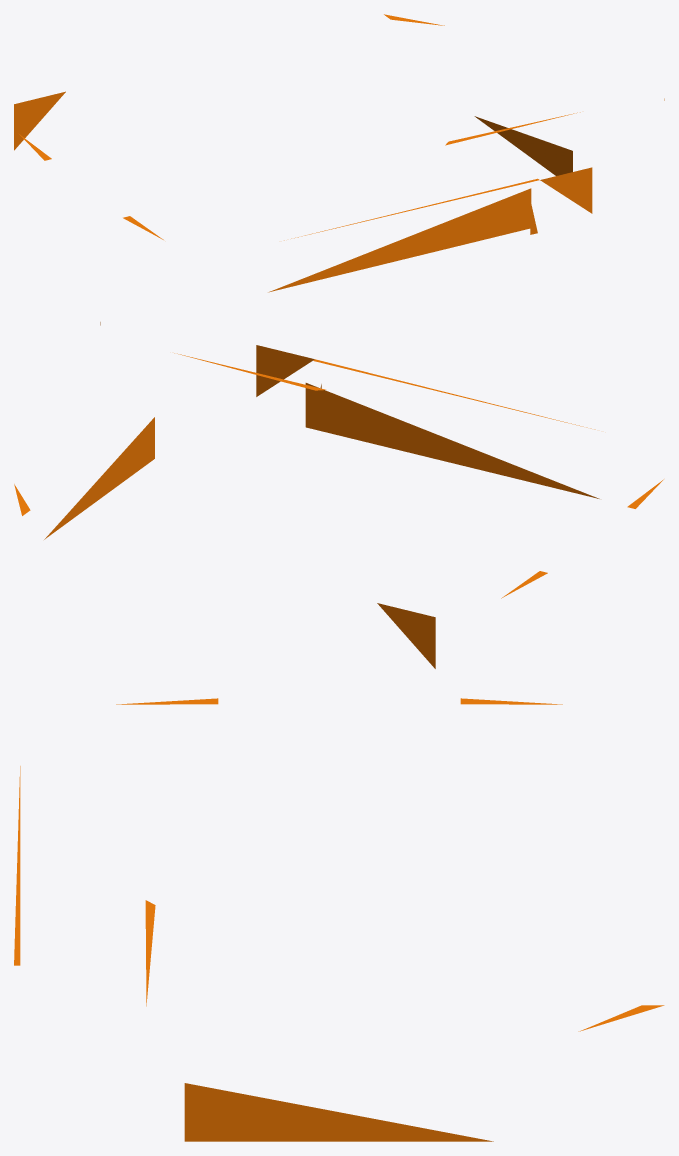
File: KL1500-3_Schlitten_1_Rep.dae
The picture shows the model from 3 angles, top to bottom: view 1: azimuth 30°, elevation 25°; view 2: azimuth 150°, elevation 25°; view 3: azimuth 270°, elevation 25°; orthographic projection. The views are drawn at different scales.
Parts seen in each view (by area): view 1: KL1500-3_Schlitten_1; view 2: KL1500-3_Schlitten_1; view 3: KL1500-3_Schlitten_1.
Part boxes in pixels (box(x1,y1,x2,y2)): KL1500-3_Schlitten_1: box(14, 14, 664, 292); KL1500-3_Schlitten_1: box(14, 322, 663, 668); KL1500-3_Schlitten_1: box(14, 698, 664, 1141).
Bounding box in the file's own units: 1332 × 946 × 224.
